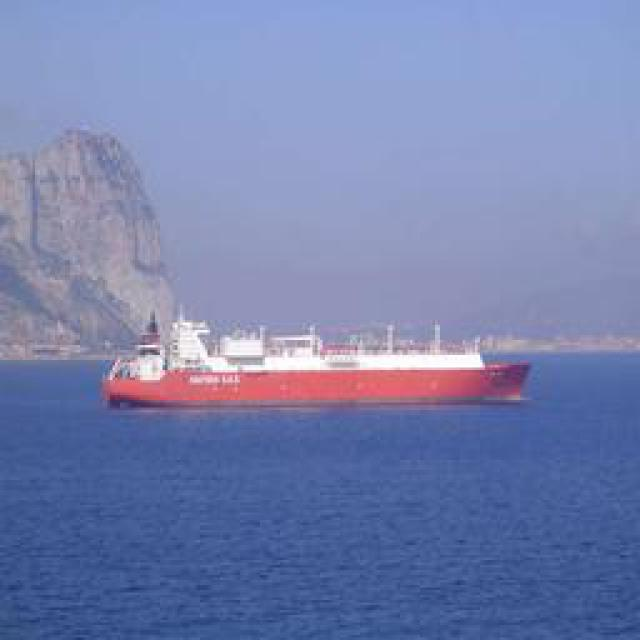Ship: (109, 325, 532, 410)
